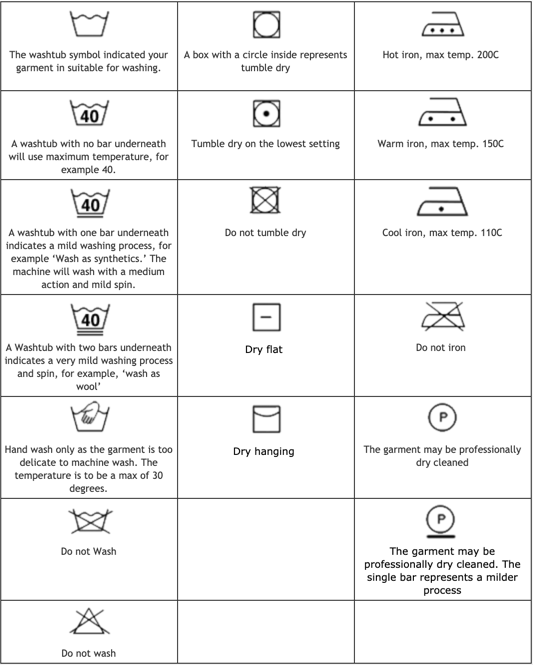do_not_bleach: (68, 608, 110, 639)
do_not_iron: (417, 299, 475, 337)
do_not_wash: (60, 508, 118, 539)
